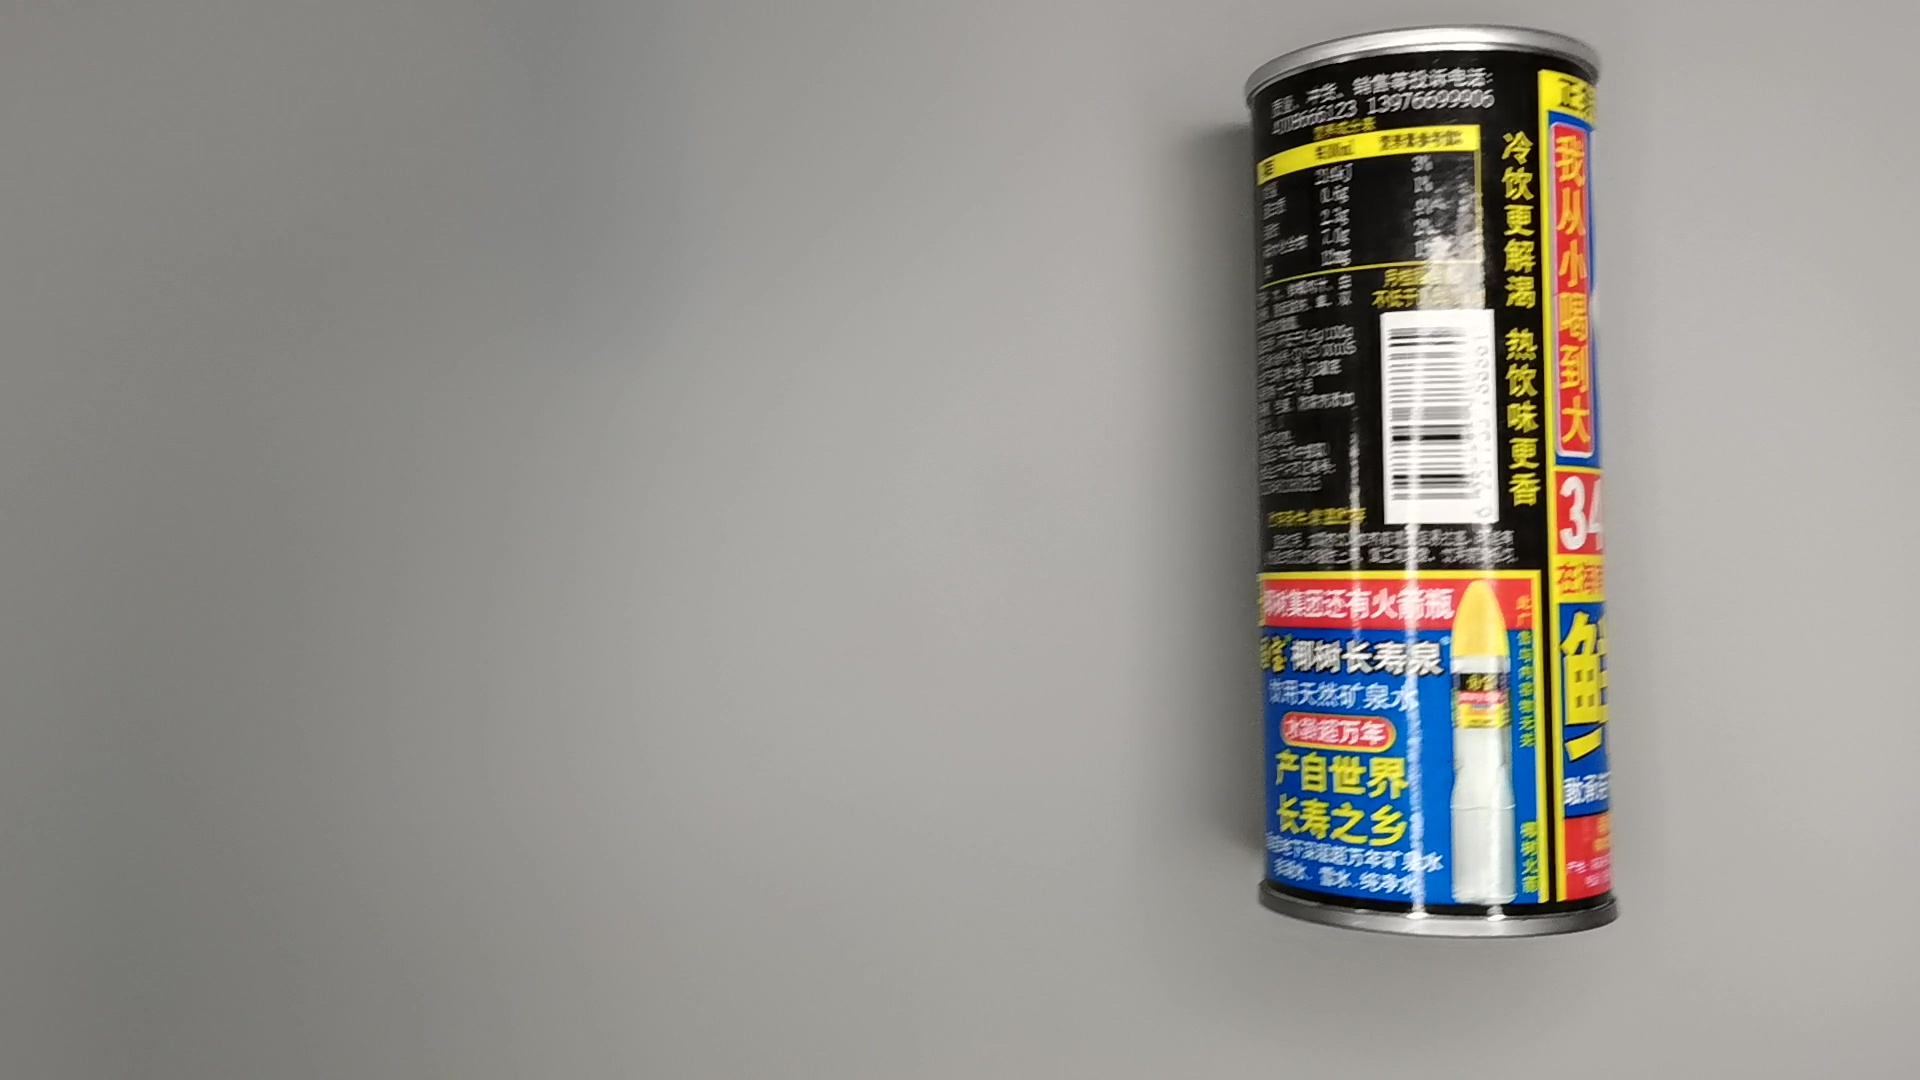can: (1251, 22, 1614, 948)
